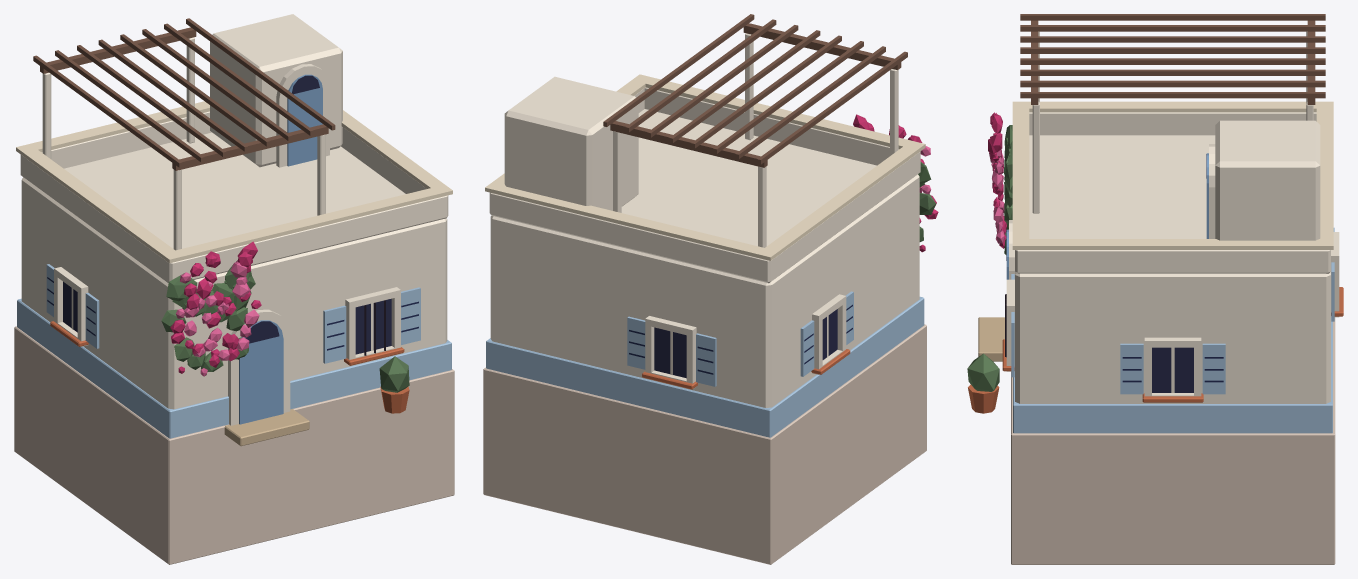
File: med_cube_small.glb
3 views of the same model, side by side, from view 1: azimuth 30°, elevation 25°; view 2: azimuth 150°, elevation 25°; view 3: azimuth 270°, elevation 25° (orthographic). The views are drawn at different scales.
Parts seen in each view (by area): view 1: med_cube_small; view 2: med_cube_small; view 3: med_cube_small.
Boxes of the visible parts, bbox=[...] form: med_cube_small: bbox=[14, 14, 454, 564]; med_cube_small: bbox=[483, 14, 938, 564]; med_cube_small: bbox=[967, 14, 1343, 564].
Size of the model in its own units: 6.91 by 8.66 by 7.15.
